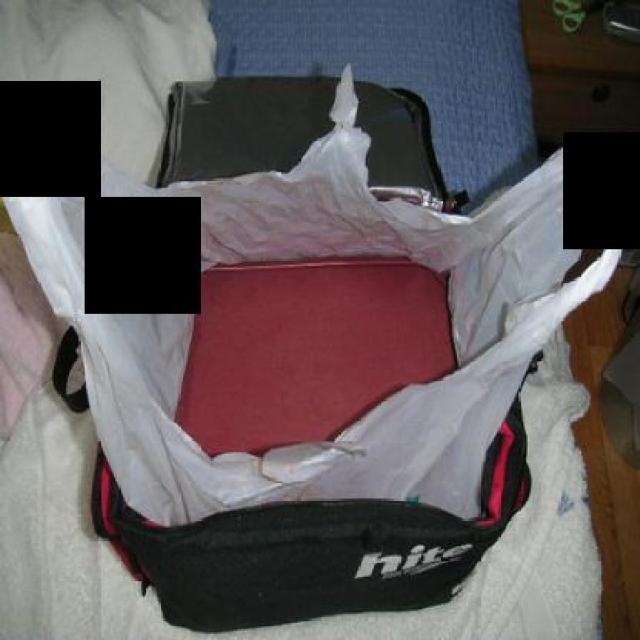plastic bag: (1, 64, 638, 542)
